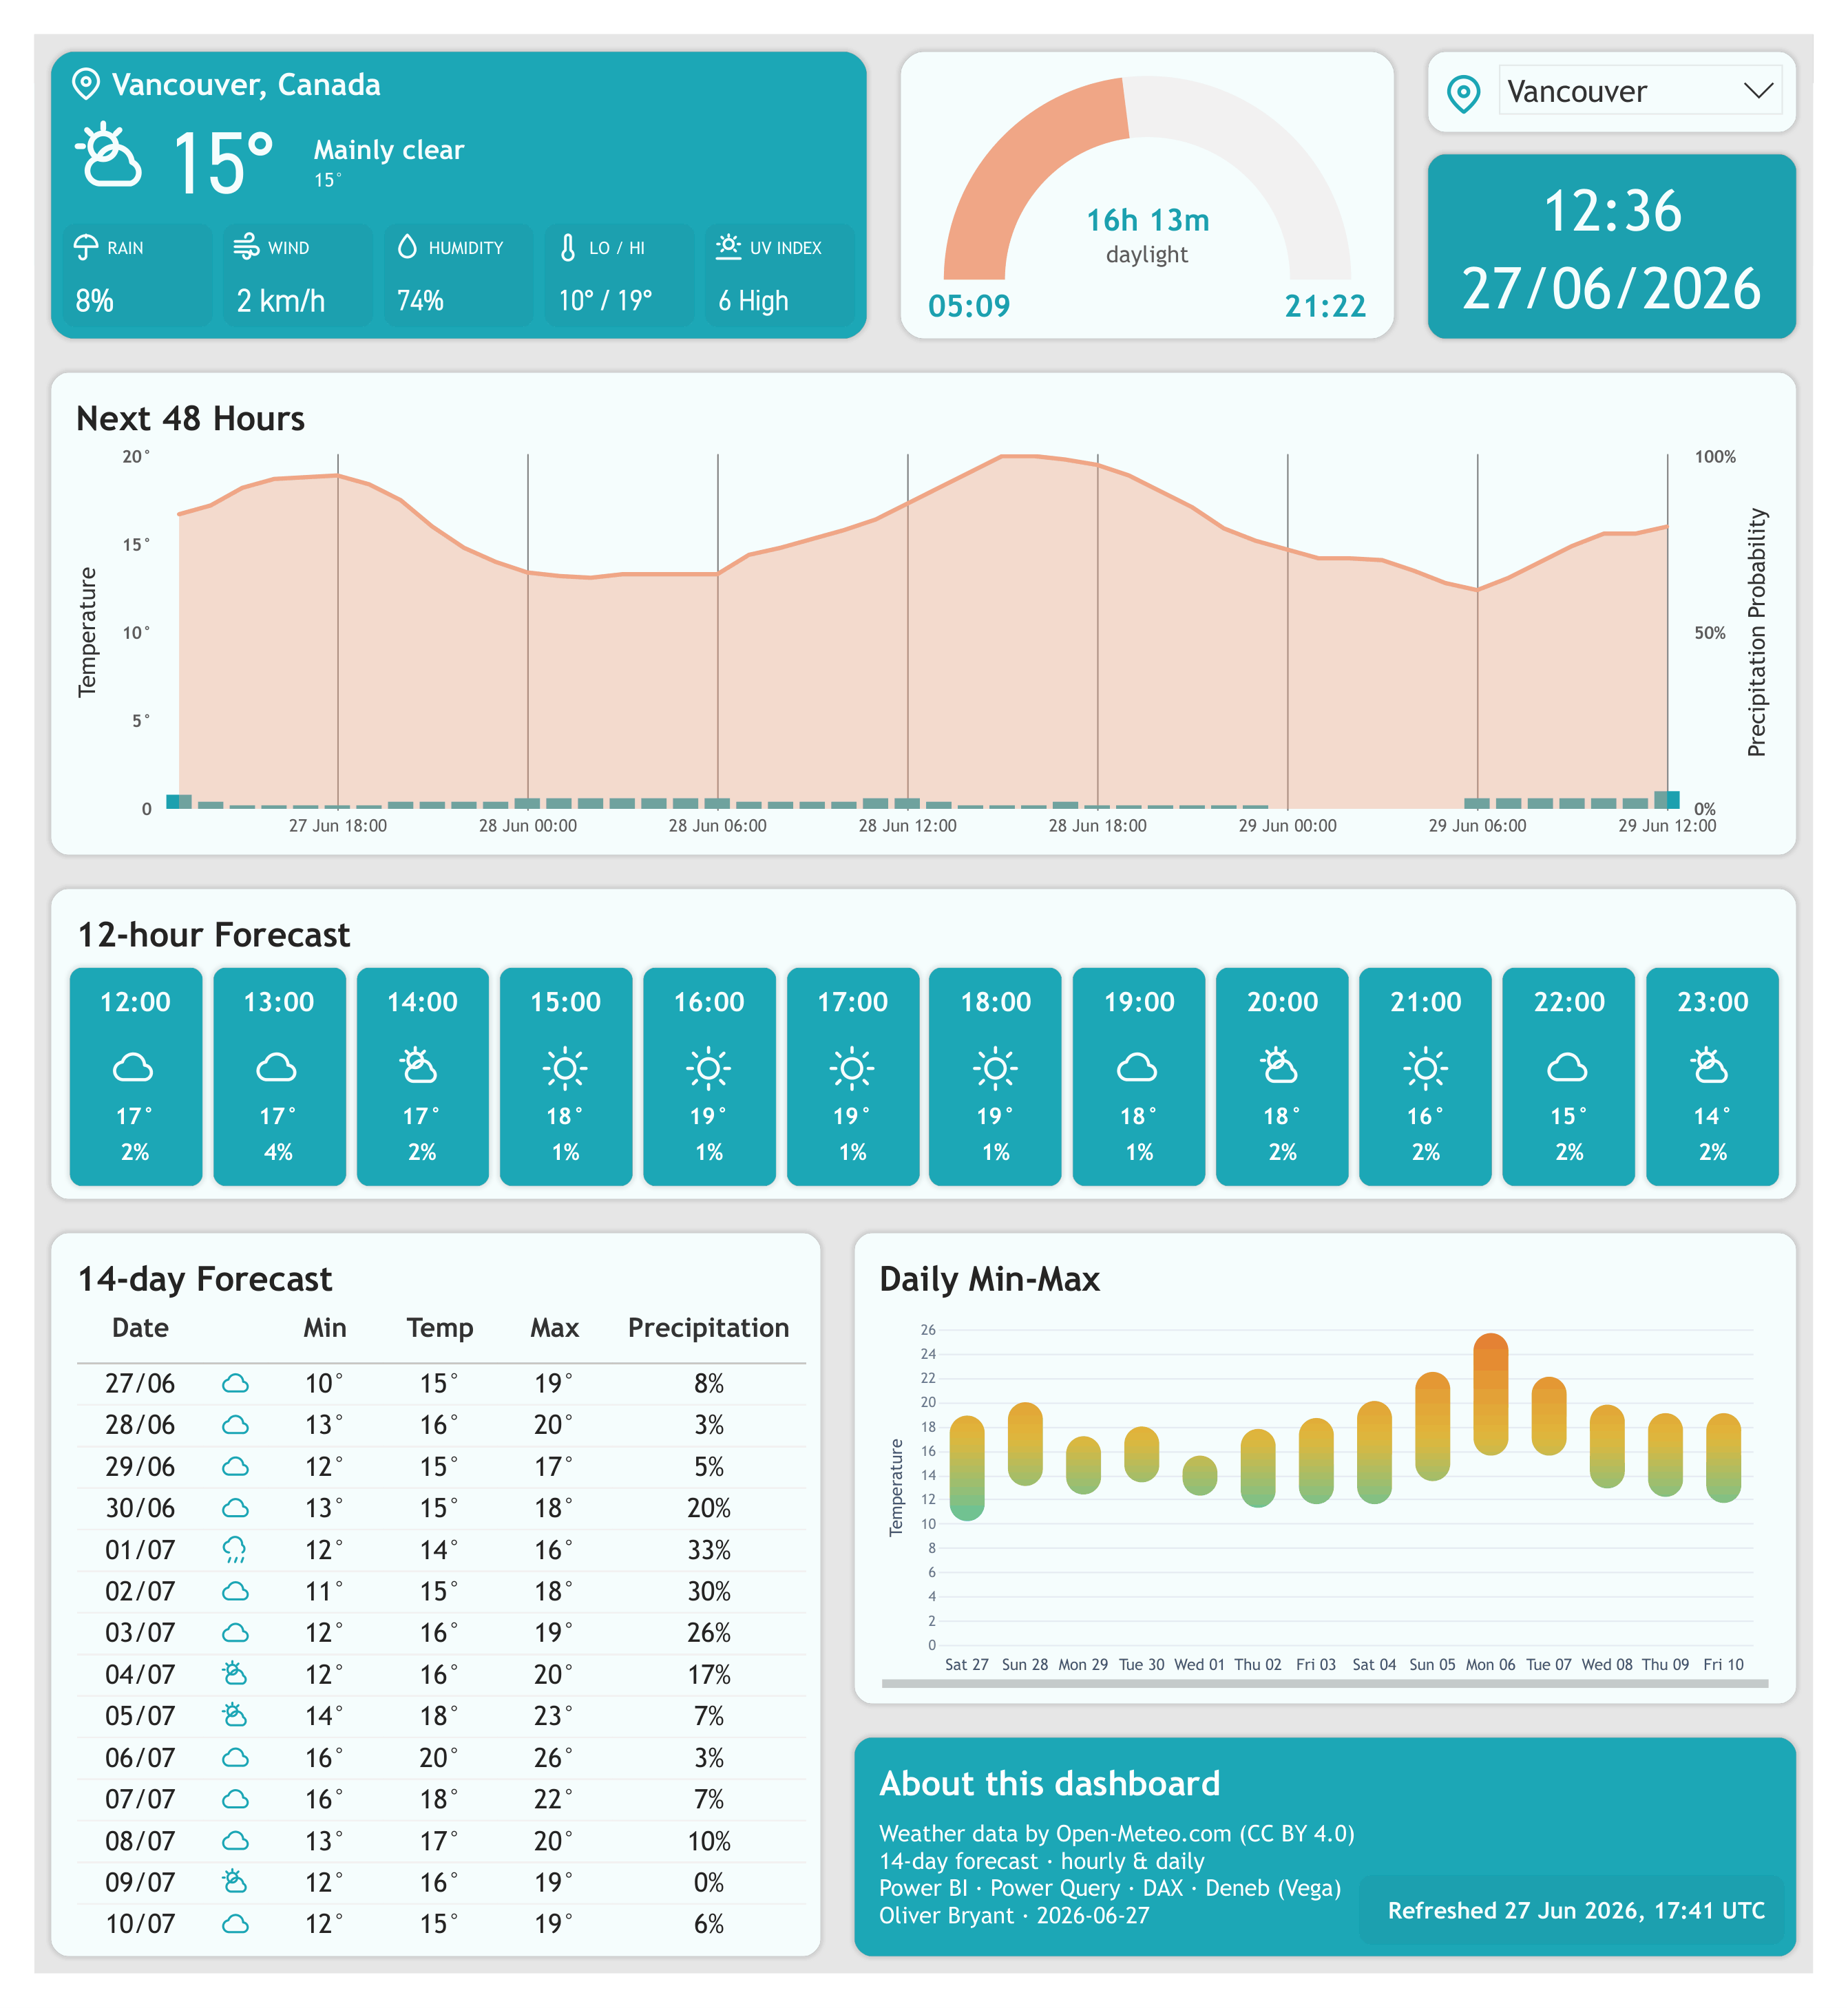

The page's visual inventory and layout, read from the dashboard file:
{"tool":"powerbi","page":{"name":"Weather","canvas":[1240,1352],"ordinal":0},"visuals":[{"type":"shape","box":[8,592,1224,224],"z":0},{"type":"shape","box":[421.5,646.9,100,160],"z":1000},{"type":"shape","box":[221.5,646.9,100,160],"z":2000},{"type":"shape","box":[619.8,646.9,100,160],"z":3000},{"type":"shape","box":[321.5,646.9,100,160],"z":4000},{"type":"shape","box":[1119.8,646.9,100,160],"z":5000},{"type":"shape","box":[8,8,576,208],"z":6000},{"type":"shape","box":[16,128,112,80],"z":7000},{"type":"shape","box":[600,8,352,208],"z":8000},{"type":"shape","box":[240,128,112,80],"z":9000},{"type":"shape","box":[128,128,112,80],"z":10000},{"type":"shape","box":[968,80,264,136],"z":11000},{"type":"shape","box":[352,128,112,80],"z":12000},{"type":"shape","box":[8,232,1224,344],"z":13000},{"type":"image","box":[24,56,64,64],"z":14000},{"type":"image","box":[22.6,21.3,26.4,26.7],"z":15000},{"type":"image","box":[24,136,24,24],"z":16000},{"type":"image","box":[136,136,24,24],"z":17000},{"type":"image","box":[248,136,24,24],"z":18000},{"type":"image","box":[360,136,24,24],"z":19000},{"type":"shape","box":[968,8,264,64],"z":20000},{"type":"shape","box":[819.8,647.5,100,160],"z":21000},{"type":"shape","box":[21,647,100,160],"z":22000},{"type":"shape","box":[121.3,647.3,100,160],"z":23000},{"type":"shape","box":[521.5,646.9,100,160],"z":24000},{"type":"shape","box":[719.8,646.9,100,160],"z":25000},{"type":"shape","box":[568,1184,664,160],"z":26000},{"type":"shape","box":[919.8,646.9,100,160],"z":27000},{"type":"shape","box":[1019.8,646.9,100,160],"z":28000},{"type":"shape","box":[920,1280,304,56],"z":29000},{"type":"shape","box":[568,832,664,336],"z":30000},{"type":"cardVisual","fields":{"Data":["CityInfo._CityRegion_Selected"]},"box":[49,12.6,384.1,40],"z":31000},{"type":"cardVisual","fields":{"Data":["WeatherCurrent._Current_Time","WeatherCurrent._Current_Date"]},"box":[976,88,248,120],"z":32000},{"type":"cardVisual","fields":{"Data":["WeatherCurrent._Current_Temperature"]},"box":[88,56,88,64],"z":33000},{"type":"cardVisual","fields":{"Data":["WeatherCurrent._Current_PrecipitationProbability_Max"]},"box":[24,168,96,32],"z":34000},{"type":"cardVisual","fields":{"Data":["WeatherCurrent._Current_Humidity"]},"box":[248,168,96,32],"z":35000},{"type":"cardVisual","fields":{"Data":["WeatherCurrent._Current_WindSpeed"]},"box":[136,168,96,32],"z":36000},{"type":"cardVisual","fields":{"Data":["WeatherCurrent._Current_Temperature_MinMax_Text"]},"box":[360,168,96,32],"z":37000},{"type":"cardVisual","fields":{"Data":["Icons._Text_Rain"]},"box":[40,128,80,40],"z":38000},{"type":"cardVisual","fields":{"Data":["Icons._Text_Wind"]},"box":[152,128,80,40],"z":39000},{"type":"cardVisual","fields":{"Data":["Icons._Text_Humidity"]},"box":[264,128,80,40],"z":40000},{"type":"cardVisual","fields":{"Data":["Icons._Text_LoHi"]},"box":[376,128,80,40],"z":41000},{"type":"slicer","fields":{"Values":["CityInfo.city"]},"box":[1016,16,208,40],"z":42000},{"type":"cardVisual","fields":{"Data":["WeatherCurrent._Current_Temperature_Apparent"]},"box":[184,80,272,40],"z":43000},{"type":"cardVisual","fields":{"Data":["CityInfo._Current_Description"]},"box":[184,56,272,48],"z":44000},{"type":"lineStackedColumnComboChart","title":"Next 48 Hours","fields":{"Y2":["WeatherHourly._Hourly_Temperature"],"Y":["WeatherHourly._Hourly_PrecipitationProbability_Max"],"Category":["WeatherHourly.hourly.time"]},"box":[24,280,1192,288],"z":45000},{"type":"image","box":[980.6,25.6,31.7,32.2],"z":46000},{"type":"shape","box":[8,832,544,512],"z":47000},{"type":"tableEx","title":"14-day Forecast","fields":{"Values":["WeatherDaily.daily.dateshort","WeatherDaily.daily.date","Icons._Icon_Daily_Dark","WeatherDaily._Daily_Temperature_Min","WeatherDaily._Daily_Temperature","WeatherDaily._Daily_Temperature_Max","WeatherDaily._Daily_PrecipitationProbability_Max"]},"box":[24,888,520,448],"z":48000},{"type":"pivotTable","title":"12-hour Forecast","fields":{"Values":["Icons._Icon_Hourly_Light","WeatherHourly._Hourly_Temperature","WeatherHourly._Hourly_PrecipitationProbability_Max"],"Columns":["WeatherHourly.hourly.datetimeshort"]},"box":[15,655,1212,152],"z":49000},{"type":"textbox","box":[24,608,256,40],"z":50000},{"type":"textbox","box":[24,248,256,40],"z":51000},{"type":"textbox","box":[24,848,256,40],"z":52000},{"type":"textbox","box":[584,848,256,40],"z":53000},{"type":"deneb7E15AEF80B9E4D4F8E12924291ECE89A","fields":{"dataset":["WeatherDaily.daily.date","WeatherDaily._Daily_Temperature_Min","WeatherDaily._Daily_Temperature_Max"]},"box":[584,888,632,272],"z":54000},{"type":"gauge","fields":{"MaxValue":["WeatherDaily._Today_Sunset_Formatted"],"MinValue":["WeatherDaily._Today_Sunrise_Formatted"],"Y":["WeatherCurrent._Current_Time_Formatted"]},"box":[608,24,336,152],"z":55000},{"type":"cardVisual","fields":{"Data":["WeatherDaily._Today_Sunrise"]},"box":[616,168,72,40],"z":56000},{"type":"cardVisual","fields":{"Data":["WeatherDaily._Today_Sunset"]},"box":[864,168,72,40],"z":57000},{"type":"cardVisual","title":"daylight","fields":{"Data":["WeatherCurrent._Daylight_Hours"]},"box":[696,112,160,56],"z":58000},{"type":"shape","box":[464,128,112,80],"z":59000},{"type":"image","box":[472,136,24,24],"z":60000},{"type":"cardVisual","fields":{"Data":["CityInfo._Daily_UV_Category"]},"box":[472,160,104,48],"z":61000},{"type":"cardVisual","fields":{"Data":["Icons._Text_Visibility"]},"box":[488,128,80,40],"z":62000},{"type":"textbox","box":[584,1200,256,40],"z":63000},{"type":"textbox","box":[584,1240,632,88],"z":64000},{"type":"cardVisual","fields":{"Data":["CityInfo._Last_Refresh"]},"box":[928,1288,288,40],"z":65000}]}

Visuals, with their boxes on the page's 1240x1352 design canvas (x1, y1, x2, y2). These are canvas units, not pixel positions in the 1848x2008 screenshot, which may show the page scaled, cropped or inside an application window:
shape: Rect(8, 592, 1232, 816)
shape: Rect(422, 647, 522, 807)
shape: Rect(222, 647, 322, 807)
shape: Rect(620, 647, 720, 807)
shape: Rect(322, 647, 422, 807)
shape: Rect(1120, 647, 1220, 807)
shape: Rect(8, 8, 584, 216)
shape: Rect(16, 128, 128, 208)
shape: Rect(600, 8, 952, 216)
shape: Rect(240, 128, 352, 208)
shape: Rect(128, 128, 240, 208)
shape: Rect(968, 80, 1232, 216)
shape: Rect(352, 128, 464, 208)
shape: Rect(8, 232, 1232, 576)
image: Rect(24, 56, 88, 120)
image: Rect(23, 21, 49, 48)
image: Rect(24, 136, 48, 160)
image: Rect(136, 136, 160, 160)
image: Rect(248, 136, 272, 160)
image: Rect(360, 136, 384, 160)
shape: Rect(968, 8, 1232, 72)
shape: Rect(820, 648, 920, 808)
shape: Rect(21, 647, 121, 807)
shape: Rect(121, 647, 221, 807)
shape: Rect(522, 647, 622, 807)
shape: Rect(720, 647, 820, 807)
shape: Rect(568, 1184, 1232, 1344)
shape: Rect(920, 647, 1020, 807)
shape: Rect(1020, 647, 1120, 807)
shape: Rect(920, 1280, 1224, 1336)
shape: Rect(568, 832, 1232, 1168)
cardVisual - CityInfo._CityRegion_Selected: Rect(49, 13, 433, 53)
cardVisual - WeatherCurrent._Current_Time x WeatherCurrent._Current_Date: Rect(976, 88, 1224, 208)
cardVisual - WeatherCurrent._Current_Temperature: Rect(88, 56, 176, 120)
cardVisual - WeatherCurrent._Current_PrecipitationProbability_Max: Rect(24, 168, 120, 200)
cardVisual - WeatherCurrent._Current_Humidity: Rect(248, 168, 344, 200)
cardVisual - WeatherCurrent._Current_WindSpeed: Rect(136, 168, 232, 200)
cardVisual - WeatherCurrent._Current_Temperature_MinMax_Text: Rect(360, 168, 456, 200)
cardVisual - Icons._Text_Rain: Rect(40, 128, 120, 168)
cardVisual - Icons._Text_Wind: Rect(152, 128, 232, 168)
cardVisual - Icons._Text_Humidity: Rect(264, 128, 344, 168)
cardVisual - Icons._Text_LoHi: Rect(376, 128, 456, 168)
slicer - CityInfo.city: Rect(1016, 16, 1224, 56)
cardVisual - WeatherCurrent._Current_Temperature_Apparent: Rect(184, 80, 456, 120)
cardVisual - CityInfo._Current_Description: Rect(184, 56, 456, 104)
"Next 48 Hours" lineStackedColumnComboChart: Rect(24, 280, 1216, 568)
image: Rect(981, 26, 1012, 58)
shape: Rect(8, 832, 552, 1344)
"14-day Forecast" tableEx: Rect(24, 888, 544, 1336)
"12-hour Forecast" pivotTable: Rect(15, 655, 1227, 807)
textbox: Rect(24, 608, 280, 648)
textbox: Rect(24, 248, 280, 288)
textbox: Rect(24, 848, 280, 888)
textbox: Rect(584, 848, 840, 888)
deneb7E15AEF80B9E4D4F8E12924291ECE89A - WeatherDaily.daily.date x WeatherDaily._Daily_Temperature_Min: Rect(584, 888, 1216, 1160)
gauge - WeatherDaily._Today_Sunset_Formatted x WeatherDaily._Today_Sunrise_Formatted: Rect(608, 24, 944, 176)
cardVisual - WeatherDaily._Today_Sunrise: Rect(616, 168, 688, 208)
cardVisual - WeatherDaily._Today_Sunset: Rect(864, 168, 936, 208)
"daylight" cardVisual: Rect(696, 112, 856, 168)
shape: Rect(464, 128, 576, 208)
image: Rect(472, 136, 496, 160)
cardVisual - CityInfo._Daily_UV_Category: Rect(472, 160, 576, 208)
cardVisual - Icons._Text_Visibility: Rect(488, 128, 568, 168)
textbox: Rect(584, 1200, 840, 1240)
textbox: Rect(584, 1240, 1216, 1328)
cardVisual - CityInfo._Last_Refresh: Rect(928, 1288, 1216, 1328)
